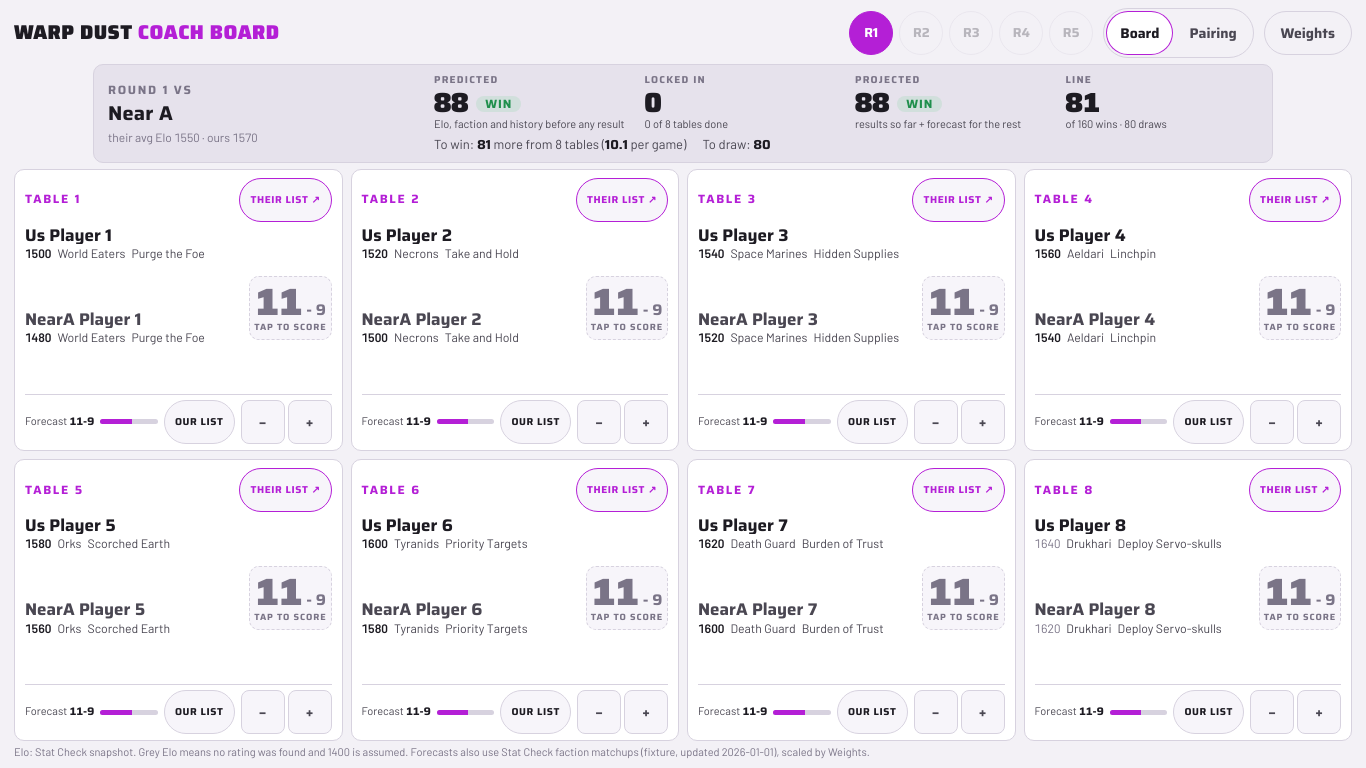
board pairing view › marks cells good at 12+, bad at 8 or less, and outlines each player's best remaining matchup
Click the tab "Pairing".
click(1213, 33)  # box [1176,11,1251,55]
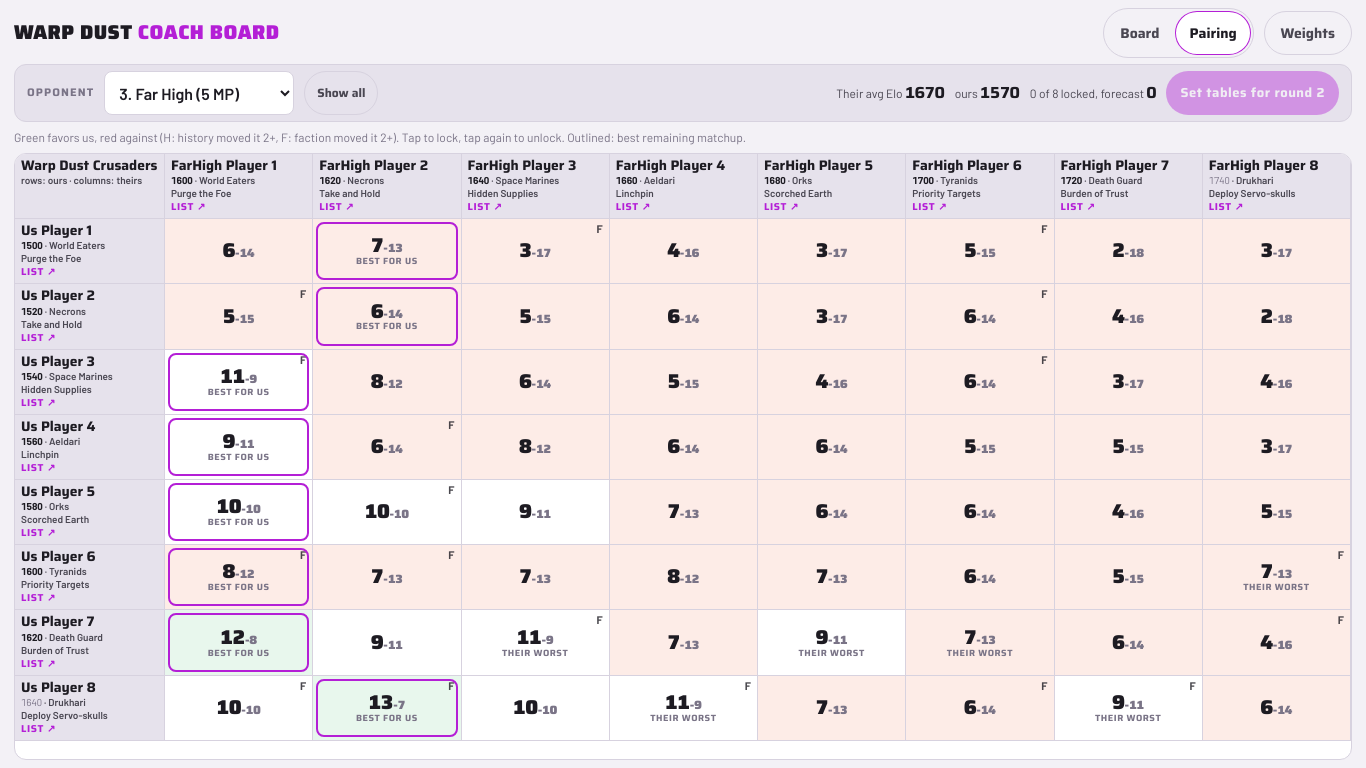
Expected: the number of buttons "6-14" is 64
Expected: the 1st text "their worst" is shown, [1243,583,1310,592]
